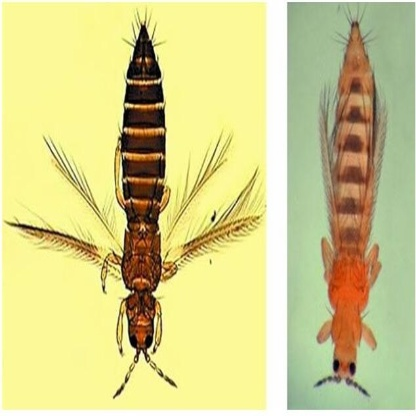Thrips: (68, 32, 228, 363), (314, 26, 388, 371)
